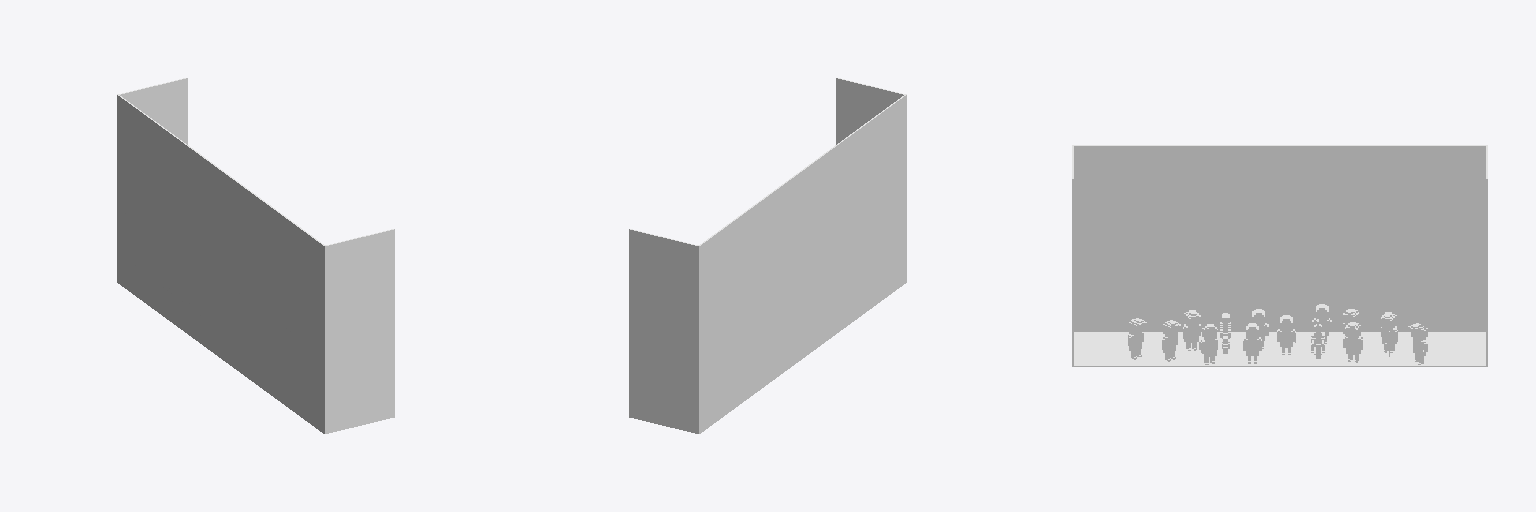
The model's file is stage3_a.obj.
3 renders of one model, left to right at view 1: azimuth 30°, elevation 25°; view 2: azimuth 150°, elevation 25°; view 3: azimuth 270°, elevation 25°, orthographic.
Parts seen in each view (by area): view 1: object 1; view 2: object 1; view 3: object 1.
Part boxes in pixels (bbox=[...]): object 1: bbox=[117, 78, 394, 433]; object 1: bbox=[629, 78, 906, 433]; object 1: bbox=[1072, 145, 1487, 366].
Bounding box in the file's own units: 5 × 12.8 × 25.6.